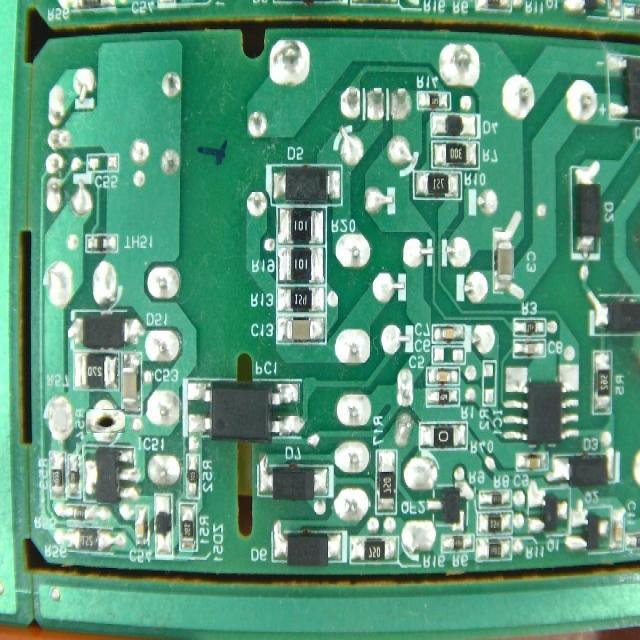damged: (89, 405, 121, 437)
